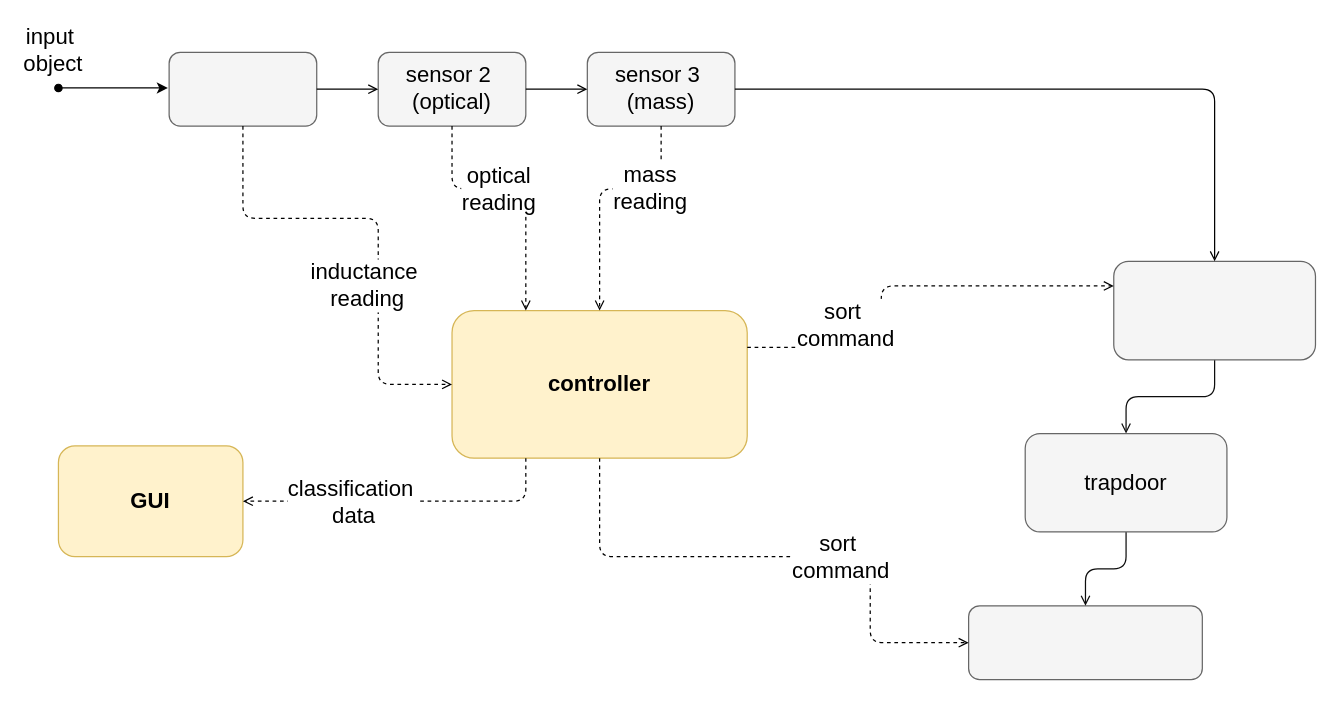
Some shapes in this 1337 by 701 pixel diagram are drawn without their labels. The centre of each missing label's shape, as x and y in pixels:
"compacting chamber" belongs at point (1214, 310).
"sensor 1 (inductance)" belongs at point (242, 88).
"storage bins" belongs at point (1084, 642).
